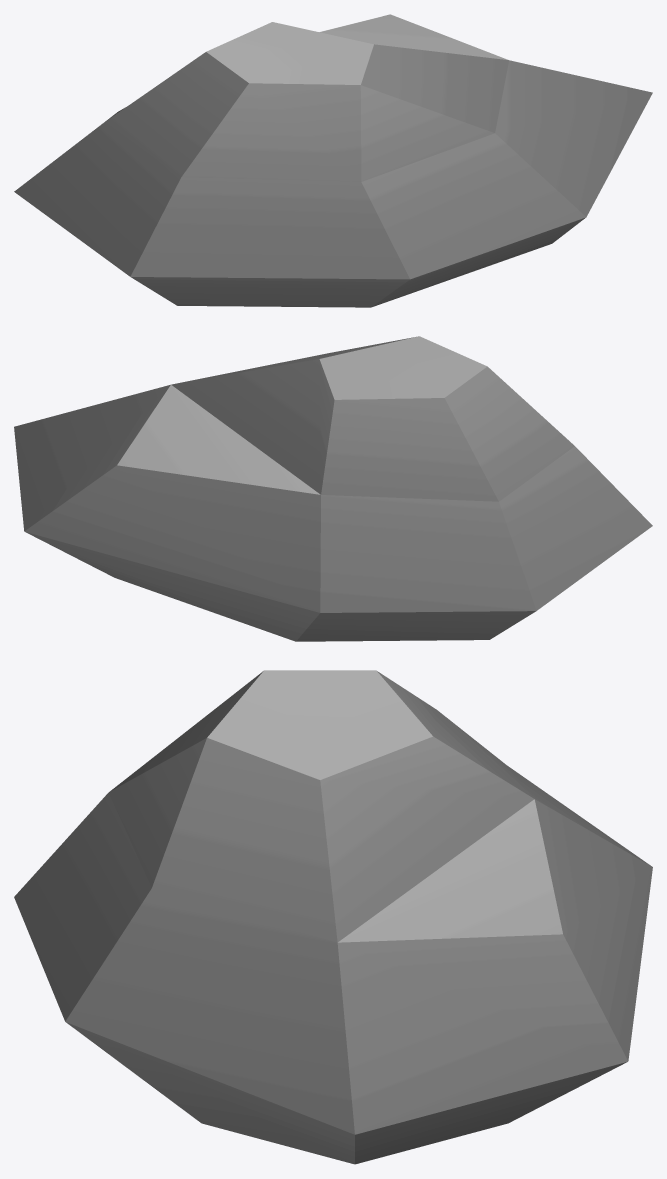
File: GL-Rock-05-LOD2.fbx
The picture shows the model from 3 angles, top to bottom: view 1: azimuth 30°, elevation 25°; view 2: azimuth 150°, elevation 25°; view 3: azimuth 270°, elevation 25°; orthographic projection. The views are drawn at different scales.
Visible parts, largest first — view 1: GL_Rock_05; view 2: GL_Rock_05; view 3: GL_Rock_05.
Part boxes in pixels (x1=…): GL_Rock_05: x1=14, y1=14, x2=652, y2=307; GL_Rock_05: x1=14, y1=336, x2=652, y2=641; GL_Rock_05: x1=14, y1=670, x2=652, y2=1164.
Bounding box in the file's own units: 3.19 × 1.11 × 2.33.
